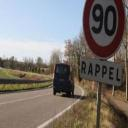speed_limit_90: (84, 0, 126, 58)
